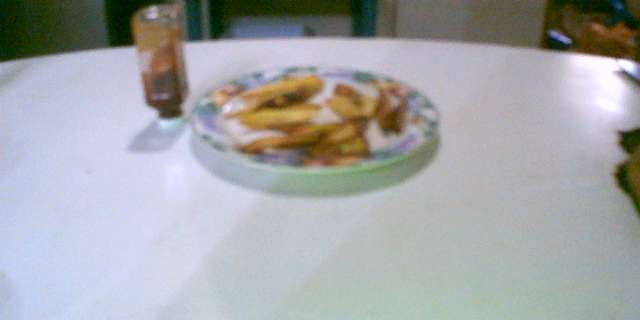ketchup_bottle: (120, 1, 196, 135)
potatoe_fries: (223, 72, 412, 165)
